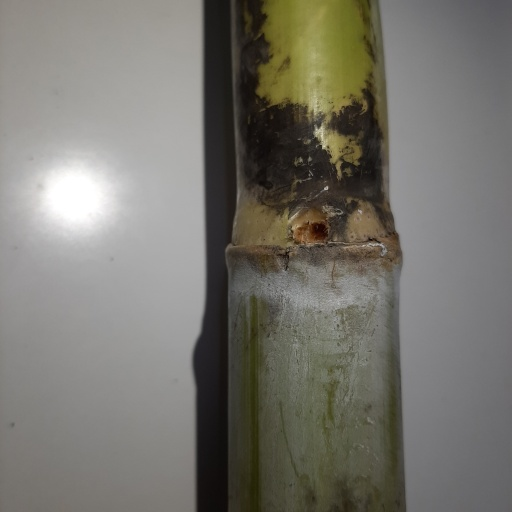Damage_Bud: (290, 205, 329, 246)
